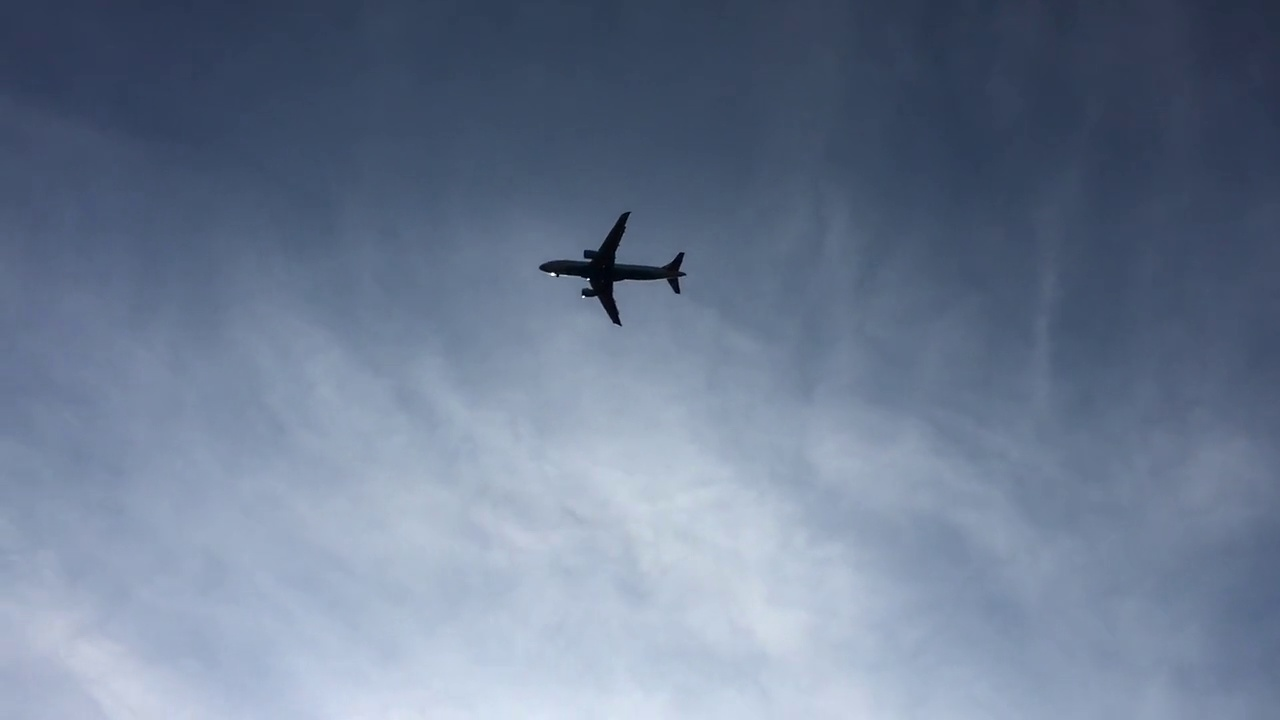plane: (539, 209, 687, 328)
